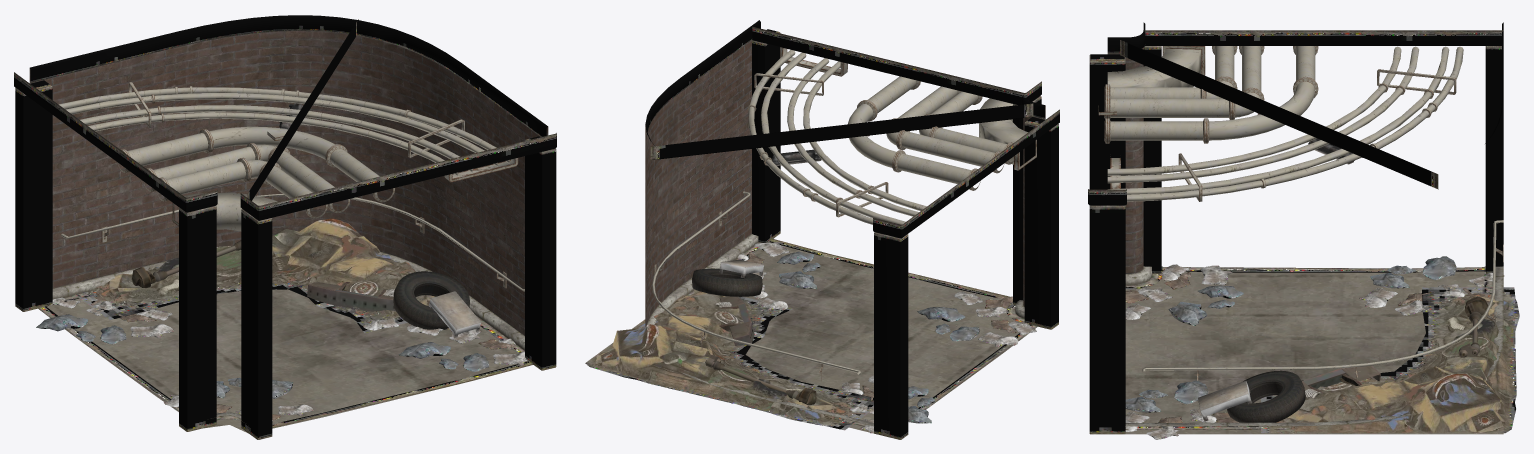
Rendered from link-corner-b-3m.glb.
3 views of the same model, side by side, from view 1: azimuth 30°, elevation 25°; view 2: azimuth 150°, elevation 25°; view 3: azimuth 270°, elevation 25° (orthographic). The views are drawn at different scales.
Parts seen in each view (by area): view 1: corridor_corner_b_3m_LOD0, junk_pile_Lshape_b, tire_a, ground_cloth_a (1), ground_cloth_a (2), wooden_tray, Bumper_Back_Gibs_Part01, ground_cloth_a, Transmission 1; view 2: corridor_corner_b_3m_LOD0, junk_pile_Lshape_b, ground_cloth_a, tire_a, ground_cloth_a (2), ground_cloth_a (1), Transmission 1, wooden_tray; view 3: corridor_corner_b_3m_LOD0, junk_pile_Lshape_b, ground_cloth_a, tire_a, ground_cloth_a (1), ground_cloth_a (2), wooden_tray, Transmission 1, Bumper_Back_Gibs_Part01.
Boxes of the visible parts, x1,y1,x2,y2 form: corridor_corner_b_3m_LOD0: (14,15,556,439); junk_pile_Lshape_b: (75,218,435,333); tire_a: (393,271,469,329); ground_cloth_a (1): (36,289,173,344); ground_cloth_a (2): (399,325,526,371); wooden_tray: (428,291,481,338); Bumper_Back_Gibs_Part01: (307,282,395,311); ground_cloth_a: (164,377,313,421); Transmission 1: (132,240,241,287); corridor_corner_b_3m_LOD0: (586,20,1059,439); junk_pile_Lshape_b: (585,289,873,430); ground_cloth_a: (917,291,1036,346); tire_a: (692,268,762,296); ground_cloth_a (2): (737,241,820,298); ground_cloth_a (1): (838,375,935,433); Transmission 1: (705,354,816,404); wooden_tray: (719,259,763,277); corridor_corner_b_3m_LOD0: (1088,22,1503,434); junk_pile_Lshape_b: (1261,287,1519,433); ground_cloth_a: (1125,264,1243,325); tire_a: (1227,370,1305,427); ground_cloth_a (1): (1359,256,1504,315); ground_cloth_a (2): (1125,380,1246,439); wooden_tray: (1198,380,1252,421); Transmission 1: (1458,296,1488,357); Bumper_Back_Gibs_Part01: (1302,365,1380,388).
Bounding box in the file's own units: 6.03 × 3.8 × 5.99.
Materials: 11 (11 with a texture image).
